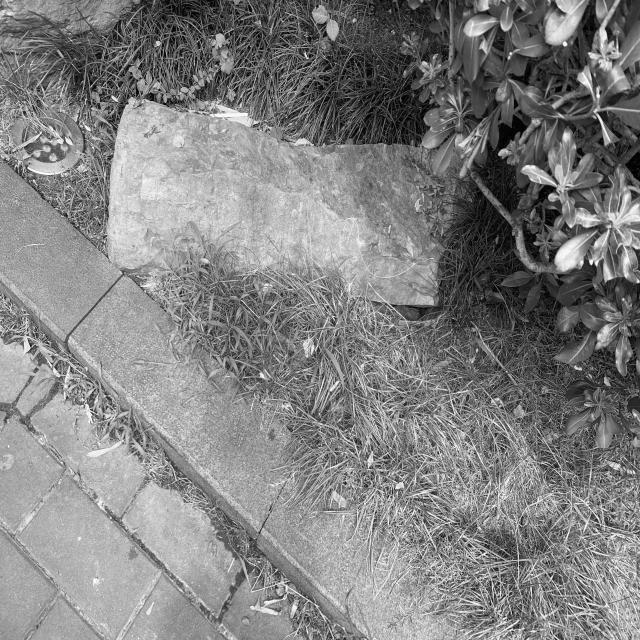Stone: (107, 101, 455, 306)
